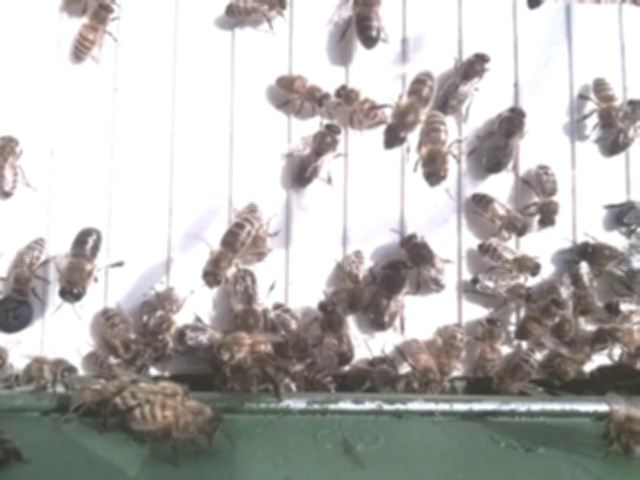Drone: (57, 222, 106, 306), (437, 44, 492, 117), (290, 119, 343, 189), (482, 101, 530, 176), (367, 255, 410, 337), (400, 231, 452, 293), (317, 295, 356, 369), (226, 265, 266, 333)
Worker: (466, 190, 531, 239), (70, 0, 117, 64), (8, 233, 50, 303), (476, 238, 547, 279), (419, 110, 455, 187), (272, 71, 335, 115), (272, 299, 314, 362), (467, 272, 538, 306), (338, 82, 391, 127), (607, 93, 640, 161), (532, 159, 562, 229), (477, 311, 506, 376), (344, 246, 370, 314), (440, 319, 470, 376), (590, 73, 620, 129), (224, 0, 294, 23), (0, 131, 22, 200)
